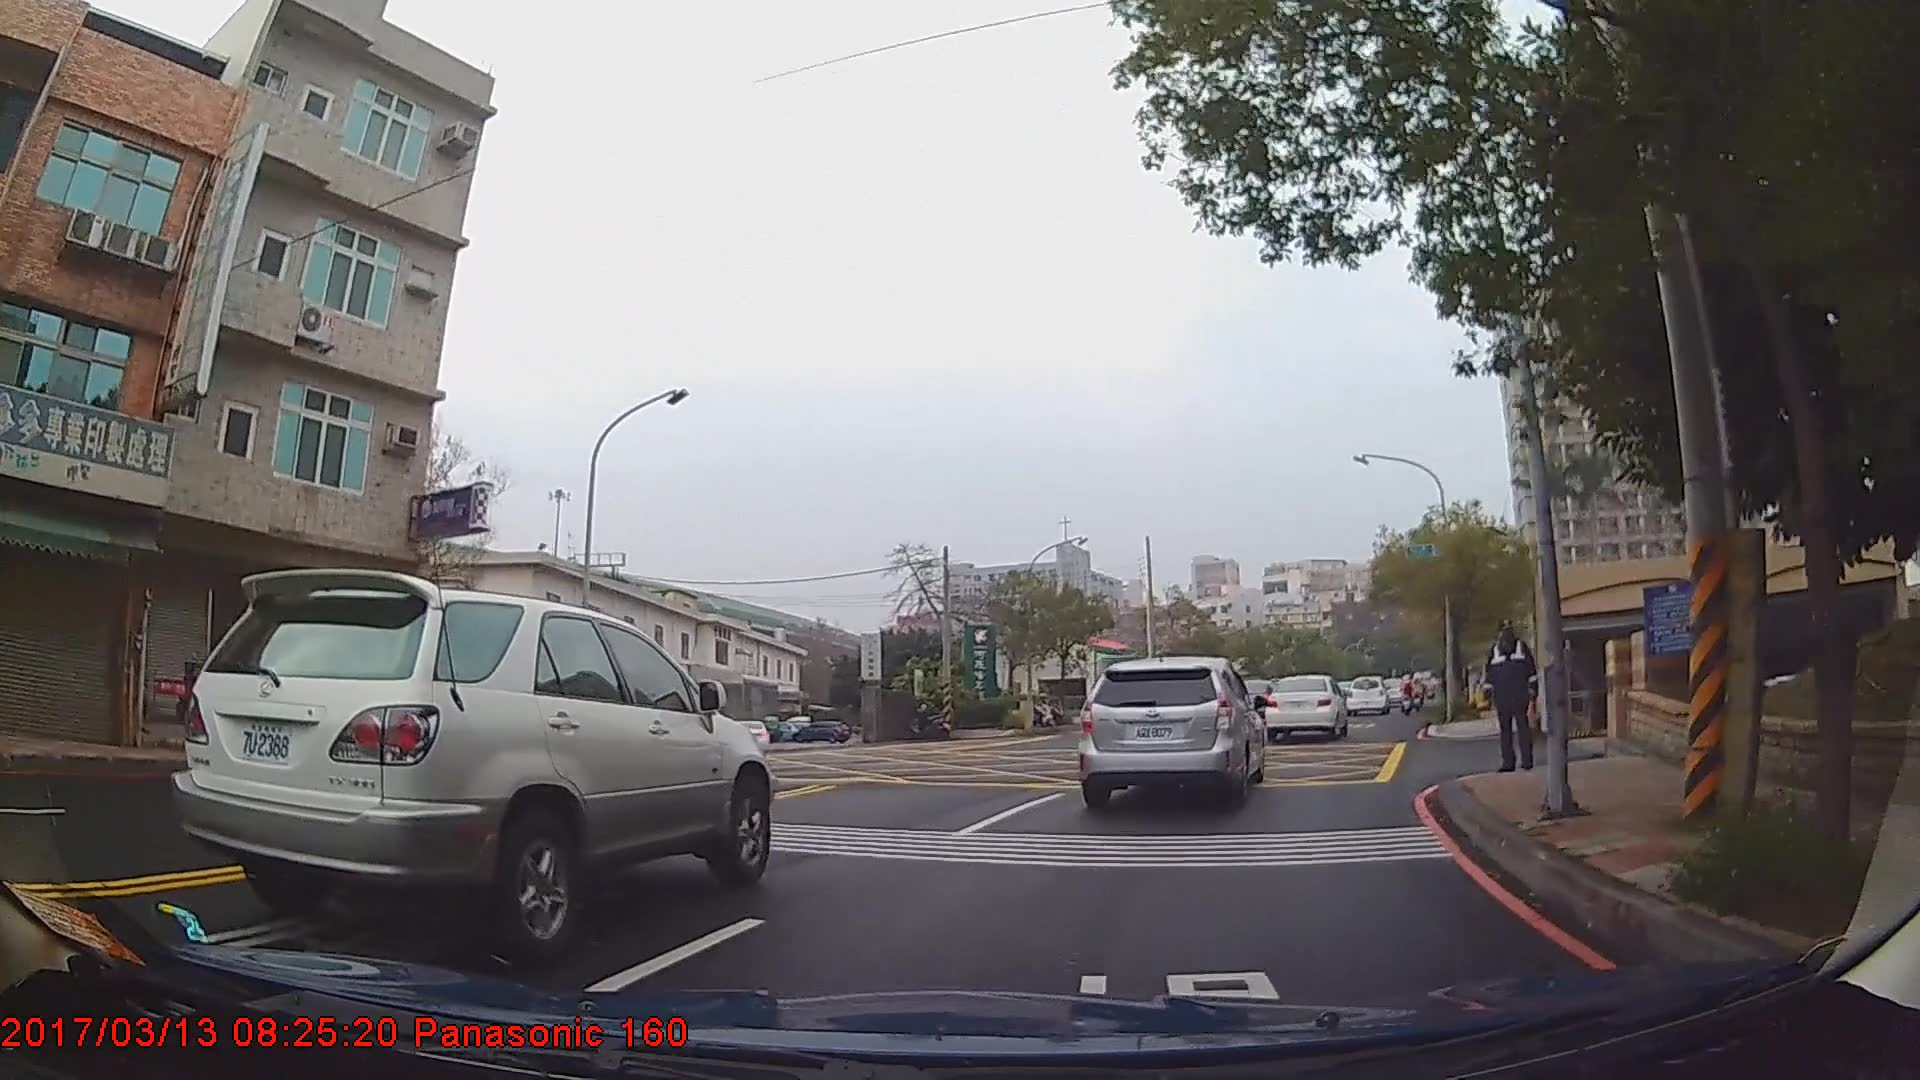pedestrian: (1482, 622, 1544, 774)
vehicle: (170, 565, 775, 954), (1075, 655, 1264, 818), (1260, 675, 1346, 741), (1345, 679, 1391, 722), (790, 720, 852, 742)
